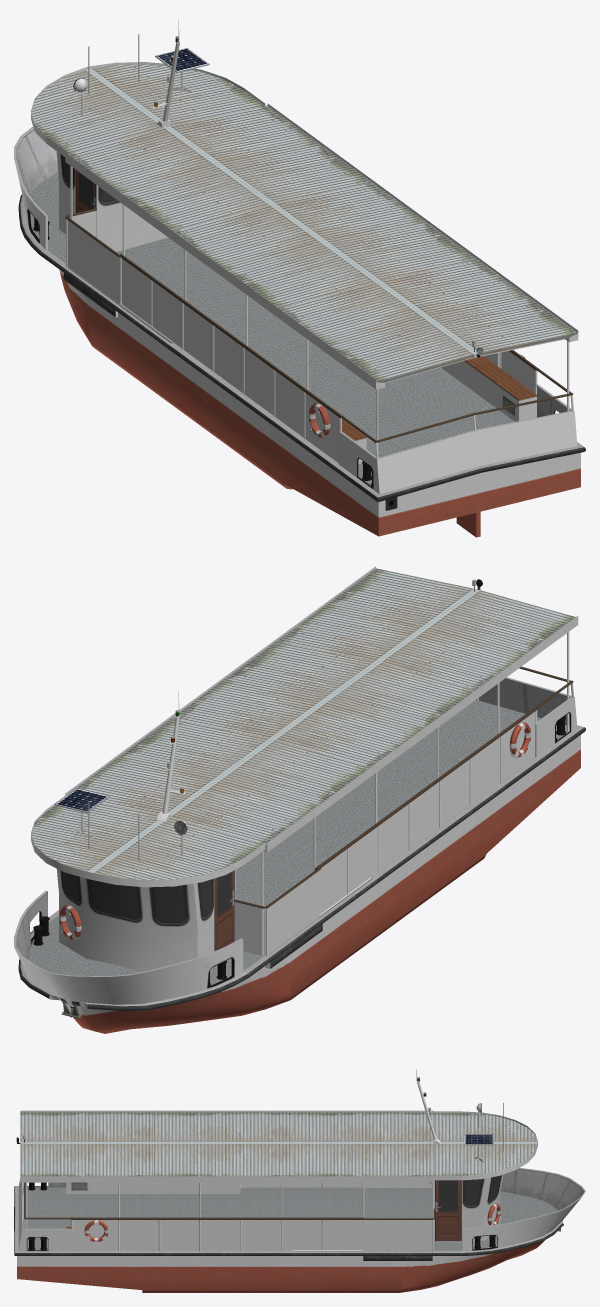
File: Giant_Ferries03.fbx
3 views of the same model, one above another, from view 1: azimuth 30°, elevation 25°; view 2: azimuth 150°, elevation 25°; view 3: azimuth 270°, elevation 25° (orthographic). The views are drawn at different scales.
Parts seen in each view (by area): view 1: Giant_Ferries03; view 2: Giant_Ferries03; view 3: Giant_Ferries03.
Part boxes in pixels (x1=…): Giant_Ferries03: x1=14, y1=19, x2=585, y2=537; Giant_Ferries03: x1=14, y1=566, x2=585, y2=1033; Giant_Ferries03: x1=14, y1=1069, x2=585, y2=1292.
Size of the model in its own units: 2743 by 3786 by 9733.
